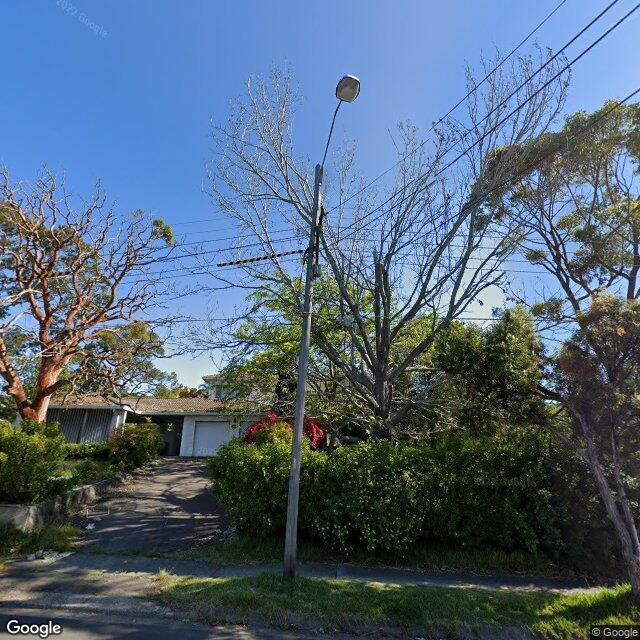streetlight: (315, 74, 361, 184)
timber-pole: (282, 163, 322, 580)
